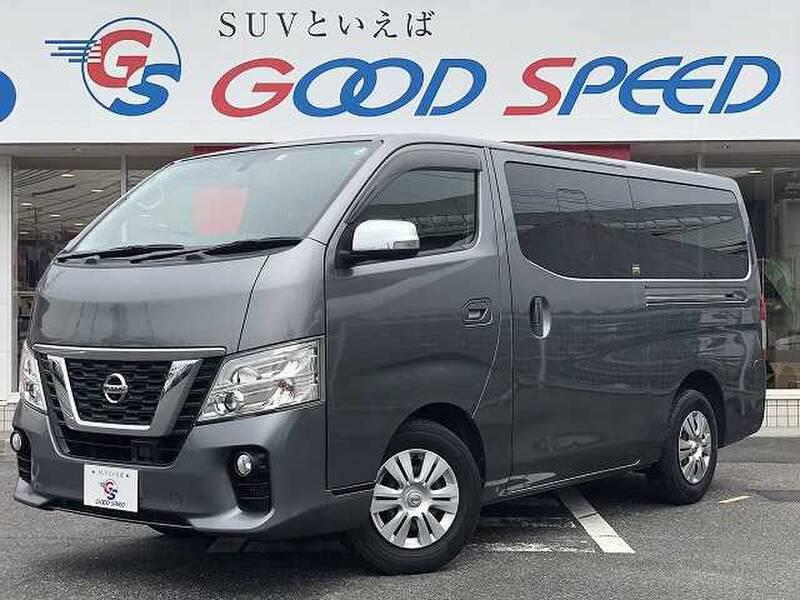van: (19, 140, 776, 560)
